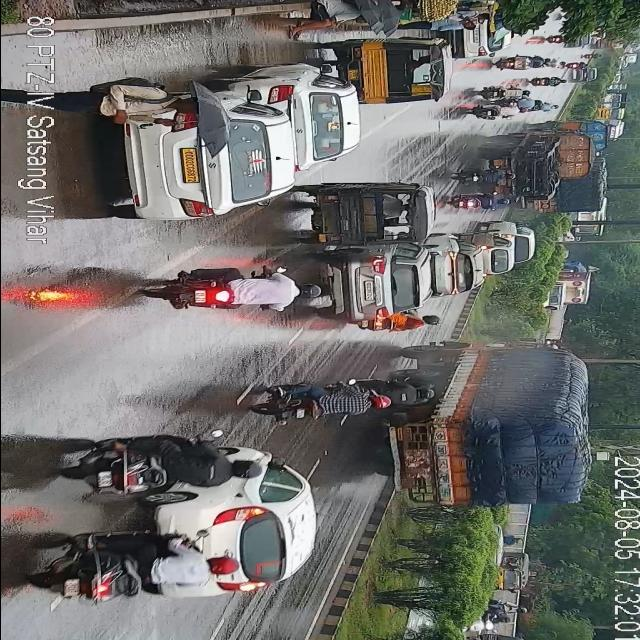2-wheelers: (39, 528, 230, 604), (72, 438, 260, 488), (138, 267, 318, 309), (242, 378, 394, 424), (361, 315, 443, 332), (490, 54, 551, 74), (470, 101, 526, 122), (484, 601, 532, 624), (472, 84, 532, 102), (448, 196, 514, 212), (452, 169, 514, 183), (486, 95, 540, 106), (570, 70, 598, 84), (530, 76, 566, 86), (530, 102, 562, 112), (547, 36, 575, 44), (566, 61, 590, 70), (580, 53, 602, 59)
auto: (302, 181, 434, 249), (339, 40, 447, 109), (489, 546, 528, 594)
car: (112, 84, 292, 222), (166, 460, 310, 600), (256, 63, 356, 177), (330, 245, 426, 326), (475, 222, 536, 280), (428, 232, 476, 300), (453, 28, 508, 62), (570, 34, 590, 49)
pedestrian: (58, 80, 210, 128), (289, 0, 360, 40), (404, 13, 480, 37)
truck: (385, 343, 596, 522), (484, 134, 594, 208), (542, 270, 594, 306)
